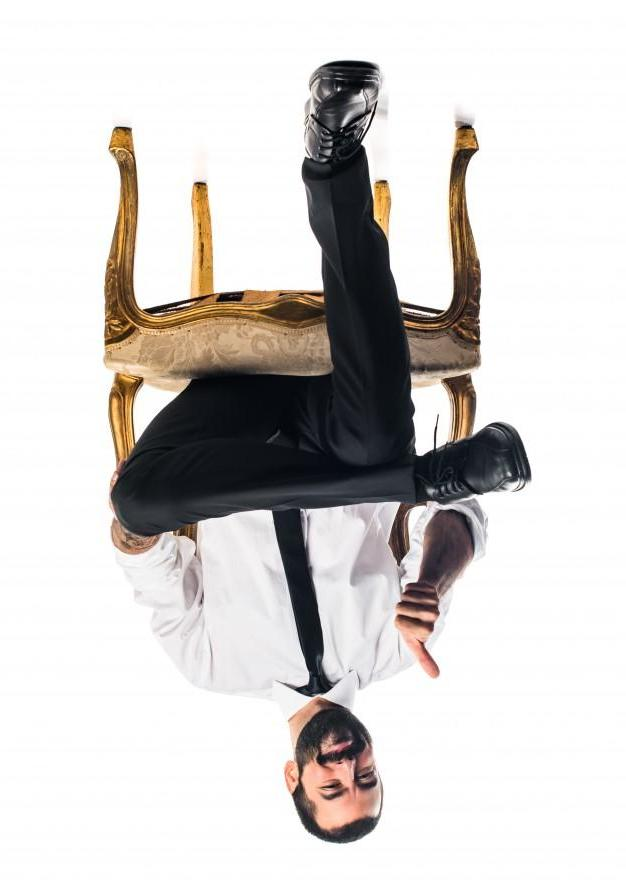thumbsdown: (394, 583, 440, 679)
